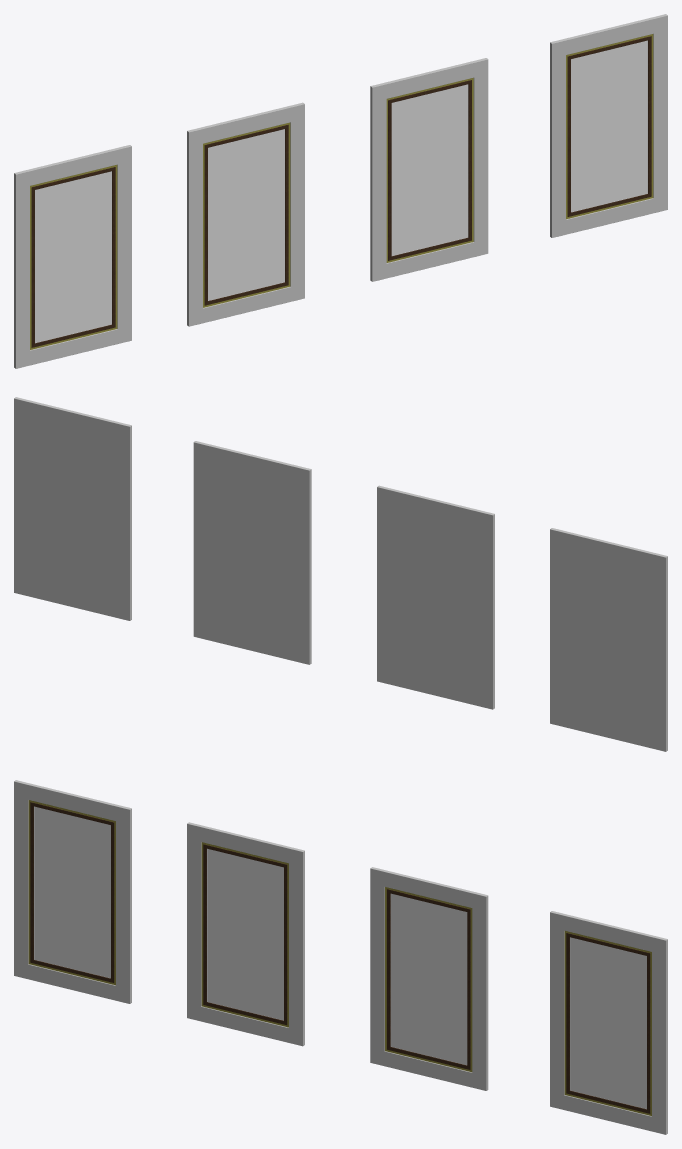
File: lukisan 4 pcs.fbx
3 views of the same model, one above another, from view 1: azimuth 30°, elevation 25°; view 2: azimuth 150°, elevation 25°; view 3: azimuth 330°, elevation 25° (orthographic).
Visible parts, largest first — view 1: Painting with frame.002, Painting with frame, Painting with frame.001, Painting with frame.003; view 2: Painting with frame.002, Painting with frame, Painting with frame.001, Painting with frame.003; view 3: Painting with frame.002, Painting with frame, Painting with frame.001, Painting with frame.003.
Part boxes in pixels (bbox=[...]): Painting with frame.002: bbox=[370, 58, 488, 281]; Painting with frame: bbox=[14, 145, 131, 368]; Painting with frame.001: bbox=[187, 102, 304, 326]; Painting with frame.003: bbox=[550, 14, 667, 237]; Painting with frame.002: bbox=[193, 441, 311, 664]; Painting with frame: bbox=[550, 528, 667, 751]; Painting with frame.001: bbox=[377, 485, 494, 709]; Painting with frame.003: bbox=[14, 397, 131, 620]; Painting with frame.002: bbox=[370, 867, 488, 1090]; Painting with frame: bbox=[14, 780, 131, 1003]; Painting with frame.001: bbox=[187, 822, 304, 1046]; Painting with frame.003: bbox=[550, 911, 667, 1134].
Size of the model in its own units: 561 by 160 by 3.
7 materials, 1 textured.
